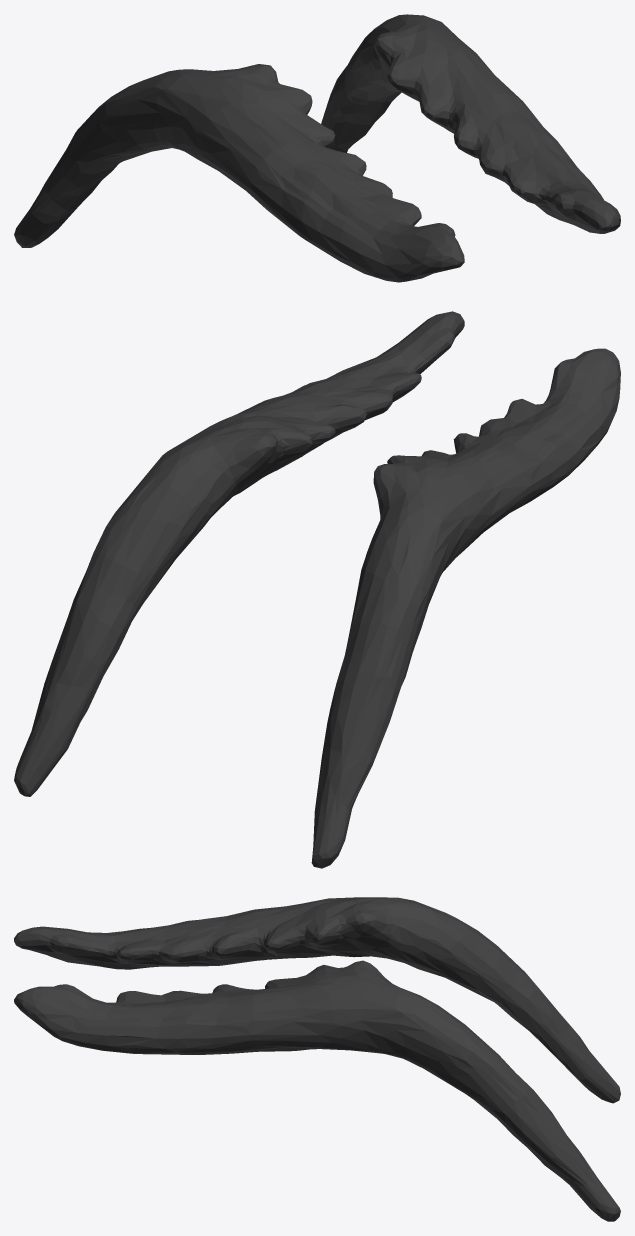
Rendered from m_psoas_major.glb.
3 views of the same model, one above another, from view 1: azimuth 30°, elevation 25°; view 2: azimuth 150°, elevation 25°; view 3: azimuth 270°, elevation 25° (orthographic). The views are drawn at different scales.
Visible parts, largest first — view 1: m_psoas_major; view 2: m_psoas_major; view 3: m_psoas_major.
Boxes of the visible parts, <box> form: m_psoas_major: <box>14,14,620,282</box>; m_psoas_major: <box>14,311,620,868</box>; m_psoas_major: <box>14,897,620,1221</box>.
Bounding box in the file's own units: 0.00477 × 0.00377 × 0.00924.
1 material, 1 textured.
